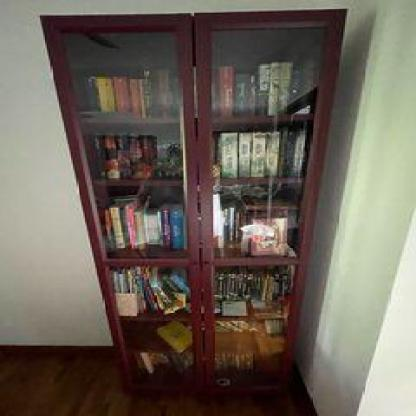lamp: (39, 8, 351, 404)
